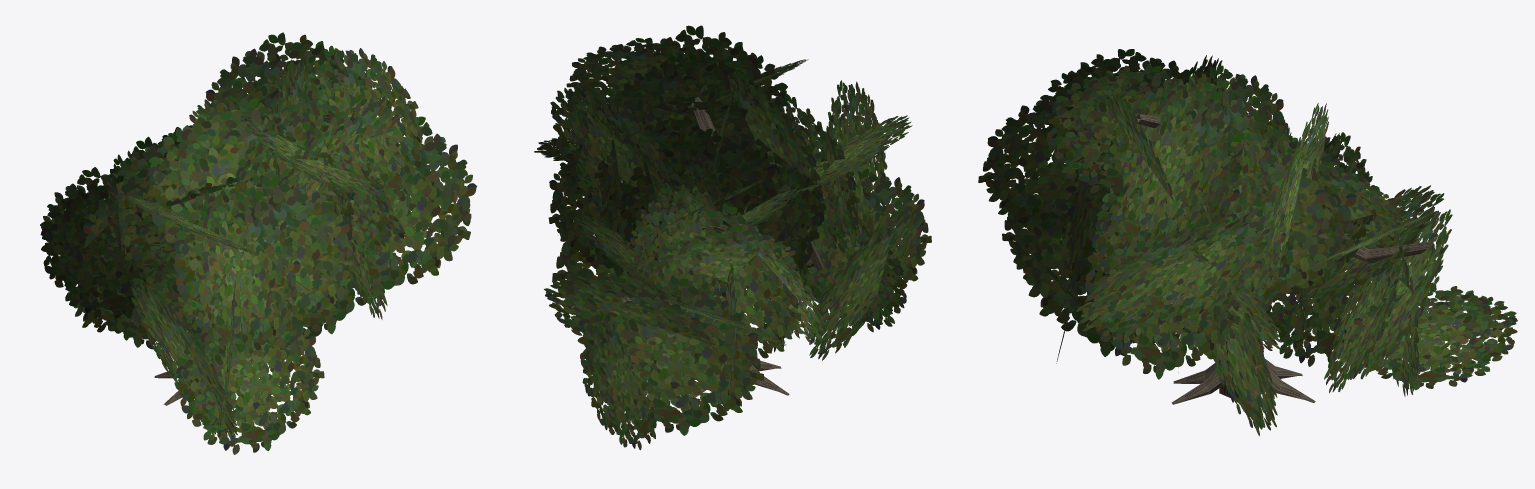
The model's file is TwistedTree_5_LOD2.gltf.
3 renders of one model, left to right at view 1: azimuth 30°, elevation 25°; view 2: azimuth 150°, elevation 25°; view 3: azimuth 270°, elevation 25°, orthographic. The views are drawn at different scales.
Visible parts, largest first — view 1: TwistedTree_5_LOD2; view 2: TwistedTree_5_LOD2; view 3: TwistedTree_5_LOD2.
Boxes of the visible parts, bbox=[...] form: TwistedTree_5_LOD2: bbox=[40, 32, 476, 454]; TwistedTree_5_LOD2: bbox=[534, 25, 931, 450]; TwistedTree_5_LOD2: bbox=[978, 49, 1517, 436].
Size of the model in its own units: 18.36 by 15.53 by 21.26.
Materials: 2 (2 with a texture image).
